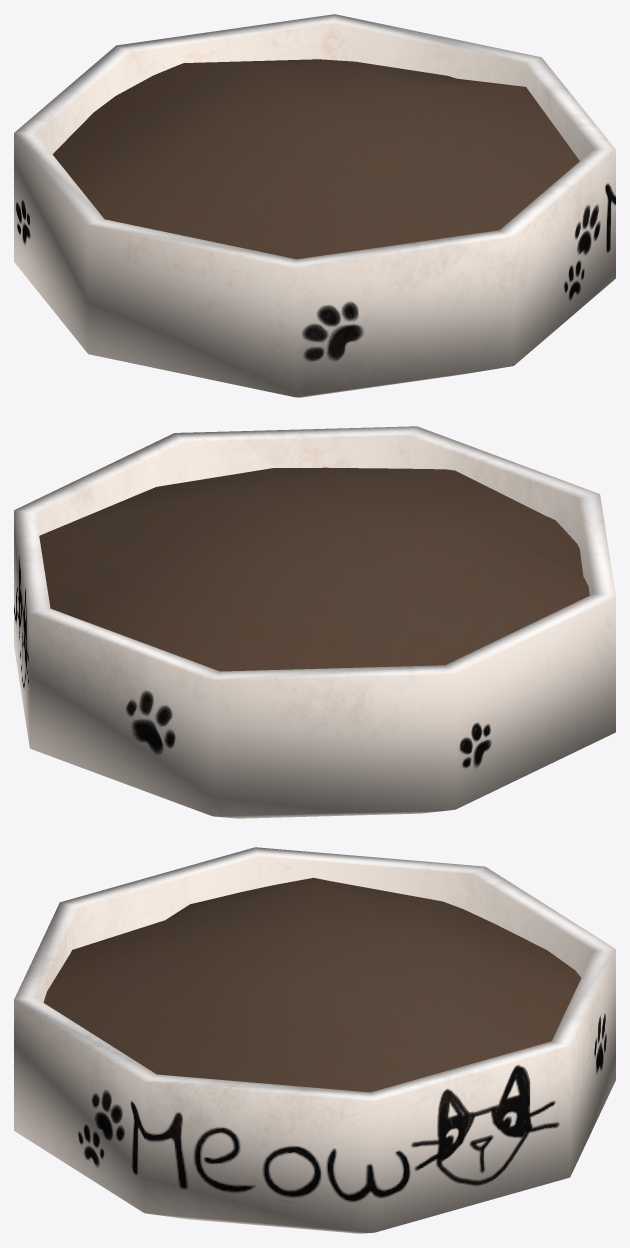
File: cat bowl.fbx
The picture shows the model from 3 angles, top to bottom: view 1: azimuth 30°, elevation 25°; view 2: azimuth 150°, elevation 25°; view 3: azimuth 270°, elevation 25°; orthographic projection. The views are drawn at different scales.
Visible parts, largest first — view 1: Cat Food Bowl, FullFood; view 2: Cat Food Bowl, FullFood; view 3: Cat Food Bowl, FullFood.
Boxes of the visible parts, x1=… form: Cat Food Bowl: x1=14, y1=14, x2=615, y2=397; FullFood: x1=52, y1=59, x2=579, y2=259; Cat Food Bowl: x1=14, y1=426, x2=615, y2=818; FullFood: x1=39, y1=467, x2=589, y2=671; Cat Food Bowl: x1=14, y1=847, x2=615, y2=1233; FullFood: x1=43, y1=877, x2=581, y2=1092.
Size of the model in its own units: 59.51 by 22.72 by 59.51.
